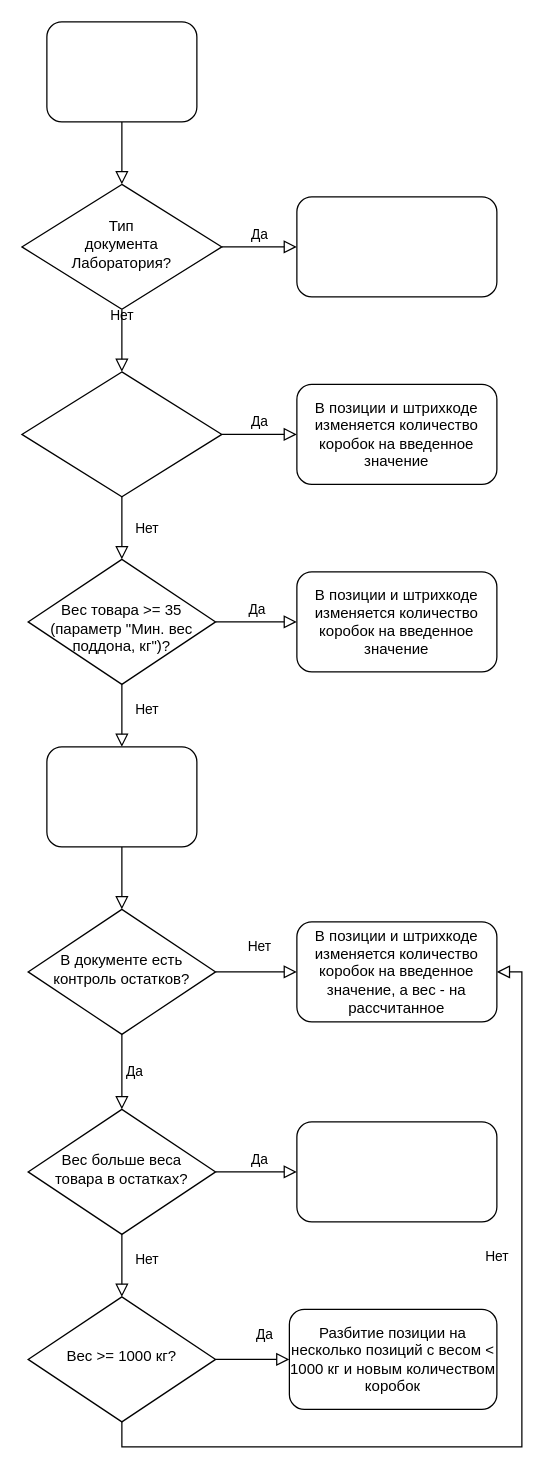
The diagram is 556 pixels wide and 1481 high, and some of its shapes have lost their labels. The centre of each missing label's shape, as x and y in pixels:
В позиции вес изменяется на введенное значение, количество коробок обнуляется: the point at 396,246
Ввод количества в диалоговом окне редактирования позиции: the point at 121,71
Вес и количество коробок не обновляются: the point at 396,1171
Подсчёт нового веса: the point at 121,796
Тип документа На хранения / С хранения / Смена ячеек?: the point at 121,434
